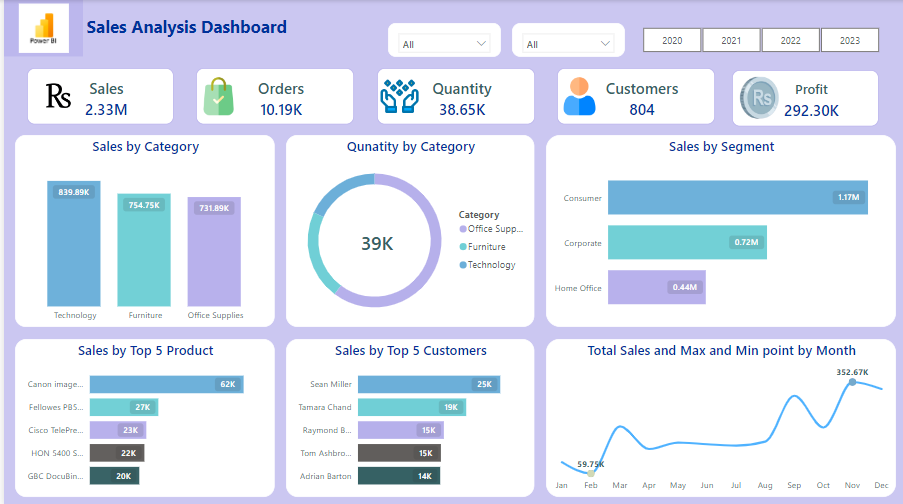

The page's visual inventory and layout, read from the dashboard file:
{"tool":"powerbi","page":{"name":"Sales","canvas":[1280,720],"ordinal":0},"visuals":[{"type":"card","title":"Sales","fields":{"Values":["All Calculation.Total Sales"]},"box":[32,96,208,80],"z":0},{"type":"card","title":"Orders","fields":{"Values":["All Calculation.Total Orders"]},"box":[272,96,224,80],"z":1000},{"type":"card","title":"Quantity","fields":{"Values":["All Calculation.total Qunatity"]},"box":[528,96,224,80],"z":2000},{"type":"card","title":"Customers","fields":{"Values":["All Calculation.Customers"]},"box":[784,96,224,80],"z":3000},{"type":"card","title":"Profit","fields":{"Values":["All Calculation.Profit"]},"box":[1031.5,99.2,208,80],"z":4000},{"type":"columnChart","title":"Sales by Category","fields":{"Category":["Sales Data.Category"],"Y":["All Calculation.Total Sales"]},"box":[16,192,368,272],"z":5000},{"type":"donutChart","title":" Qunatity by Category","fields":{"Category":["Sales Data.Category"],"Y":["All Calculation.total Qunatity"]},"box":[400,192,352,272],"z":6000},{"type":"card","fields":{"Values":["All Calculation.total Qunatity"]},"box":[480,320,96,48],"z":7000},{"type":"barChart","title":"Sales by Segment","fields":{"Category":["Sales Data.Segment"],"Y":["All Calculation.Total Sales"]},"box":[768,192,496,272],"z":8000},{"type":"lineChart","fields":{"Category":["Calender.Month"],"Y":["All Calculation.Total Sales","All Calculation.Max and Min point"]},"box":[768,480,496,224],"z":9000},{"type":"barChart","title":" Sales by Top 5 Product","fields":{"Y":["All Calculation.Total Sales"],"Category":["Sales Data.Product Name"]},"box":[16,480,368,224],"z":10000},{"type":"barChart","title":" Sales by Top 5  Customers","fields":{"Y":["All Calculation.Total Sales"],"Category":["Sales Data.Customer Name"]},"box":[400,480,352,224],"z":11000},{"type":"slicer","fields":{"Values":["Calender.Year"]},"box":[880,32,384,48],"z":12000},{"type":"textbox","box":[112,16,304,48],"z":13000},{"type":"slicer","fields":{"Values":["Sales Data.Category"]},"box":[720,32,160,48],"z":14000},{"type":"slicer","fields":{"Values":["Sales Data.Segment"]},"box":[544,32,160,48],"z":15000},{"type":"image","box":[0,0,112,80],"z":16000},{"type":"image","box":[784,96,64,80],"z":17000},{"type":"image","box":[528,96,64,80],"z":18000},{"type":"image","box":[272,96,64,80],"z":19000},{"type":"image","box":[1026.1,85,89.3,106.3],"z":20000},{"type":"image","box":[42.5,99.2,69.4,78],"z":21000}]}

Visuals, with their boxes in screenshot pixels (x1, y1, x2, y2), scaled from the page's 1280x720 canvas onto the 903x504 screenshot:
"Sales" card: <box>23,67,169,123</box>
"Orders" card: <box>192,67,350,123</box>
"Quantity" card: <box>372,67,531,123</box>
"Customers" card: <box>553,67,711,123</box>
"Profit" card: <box>728,69,874,125</box>
"Sales by Category" columnChart: <box>11,134,271,325</box>
" Qunatity by Category" donutChart: <box>282,134,531,325</box>
card - All Calculation.total Qunatity: <box>339,224,406,258</box>
"Sales by Segment" barChart: <box>542,134,892,325</box>
lineChart - Calender.Month x All Calculation.Total Sales: <box>542,336,892,493</box>
" Sales by Top 5 Product" barChart: <box>11,336,271,493</box>
" Sales by Top 5  Customers" barChart: <box>282,336,531,493</box>
slicer - Calender.Year: <box>621,22,892,56</box>
textbox: <box>79,11,293,45</box>
slicer - Sales Data.Category: <box>508,22,621,56</box>
slicer - Sales Data.Segment: <box>384,22,497,56</box>
image: <box>0,0,79,56</box>
image: <box>553,67,598,123</box>
image: <box>372,67,418,123</box>
image: <box>192,67,237,123</box>
image: <box>724,59,787,134</box>
image: <box>30,69,79,124</box>
